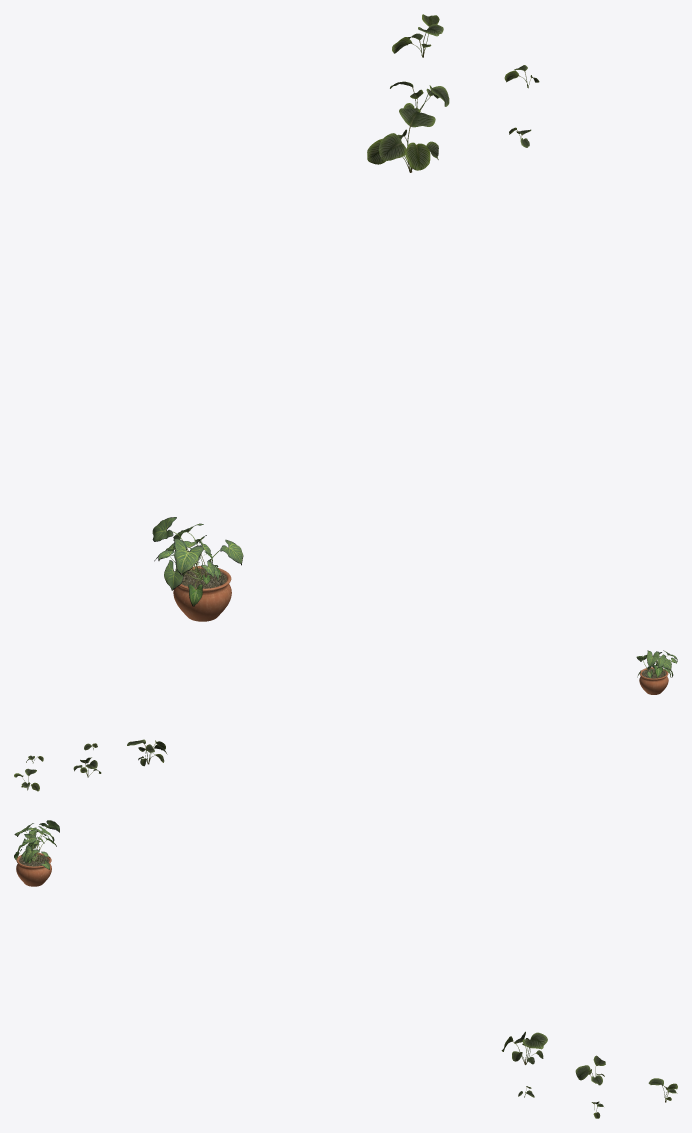
The model's file is room_rails_props.glb.
3 renders of one model, top to bottom at view 1: azimuth 30°, elevation 25°; view 2: azimuth 150°, elevation 25°; view 3: azimuth 270°, elevation 25°, orthographic. The views are drawn at different scales.
Visible parts, largest first — view 1: prop_potted_plant_02_1_potted_plant_02_leaves, prop_calathea_orbifolia_01_2_calathea_orbifolia_01_a, prop_potted_plant_02_1_potted_plant_02_pot; view 2: prop_potted_plant_02_1_potted_plant_02_leaves, prop_potted_plant_02_1_potted_plant_02_pot, prop_calathea_orbifolia_01_2_calathea_orbifolia_01_a, prop_calathea_orbifolia_01_2_calathea_orbifolia_01_b; view 3: prop_potted_plant_02_1_potted_plant_02_leaves, prop_calathea_orbifolia_01_2_calathea_orbifolia_01_a, prop_potted_plant_02_1_potted_plant_02_pot.
Part boxes in pixels (box(x1,y1,x2,y2)): prop_potted_plant_02_1_potted_plant_02_leaves: box(152, 517, 243, 606); prop_calathea_orbifolia_01_2_calathea_orbifolia_01_a: box(367, 107, 438, 172); prop_potted_plant_02_1_potted_plant_02_pot: box(173, 566, 231, 621); prop_potted_plant_02_1_potted_plant_02_leaves: box(636, 650, 677, 678); prop_potted_plant_02_1_potted_plant_02_pot: box(639, 667, 668, 694); prop_calathea_orbifolia_01_2_calathea_orbifolia_01_a: box(127, 739, 167, 766); prop_calathea_orbifolia_01_2_calathea_orbifolia_01_b: box(73, 757, 101, 777); prop_potted_plant_02_1_potted_plant_02_leaves: box(14, 820, 59, 869); prop_calathea_orbifolia_01_2_calathea_orbifolia_01_a: box(501, 1031, 547, 1064); prop_potted_plant_02_1_potted_plant_02_pot: box(16, 852, 51, 886).
Bounding box in the file's own units: 7.86 × 0.8412 × 8.78.
3 materials, 3 textured.
